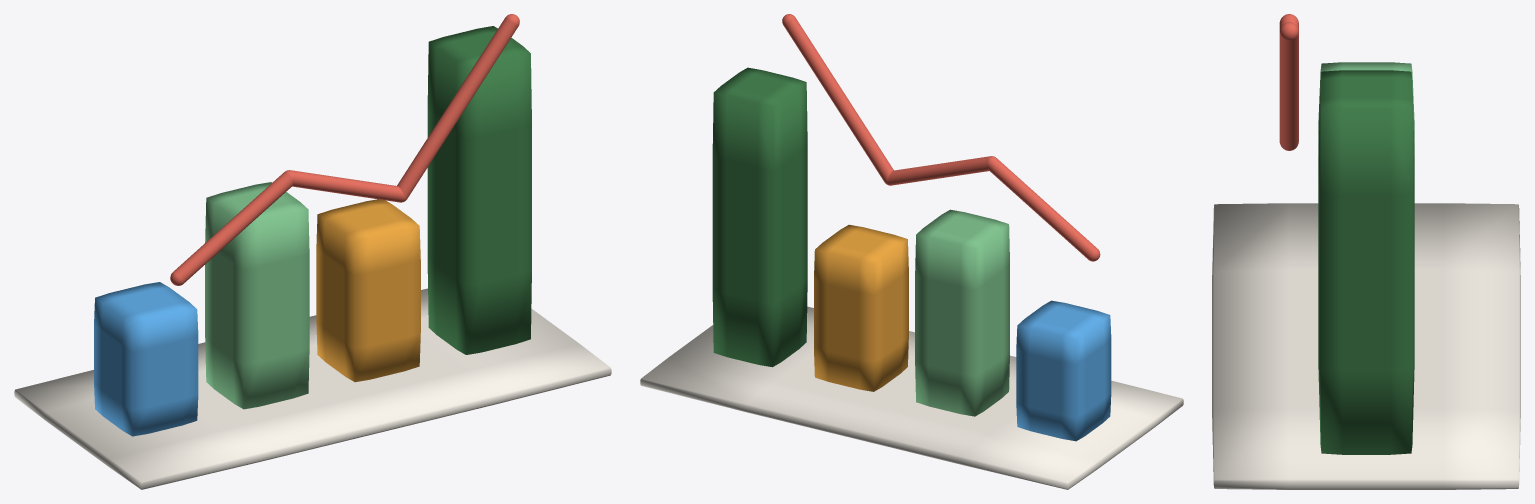
File: ph_reports.glb
The picture shows the model from 3 angles, left to right: view 1: azimuth 30°, elevation 25°; view 2: azimuth 150°, elevation 25°; view 3: azimuth 270°, elevation 25°; orthographic projection. The views are drawn at different scales.
Parts seen in each view (by area): view 1: ph_reports; view 2: ph_reports; view 3: ph_reports.
Boxes of the visible parts, x1,y1,x2,y2 form: ph_reports: [14, 14, 611, 489]; ph_reports: [640, 14, 1183, 489]; ph_reports: [1212, 14, 1520, 489].
Bounding box in the file's own units: 3.4 × 2.45 × 1.6.
